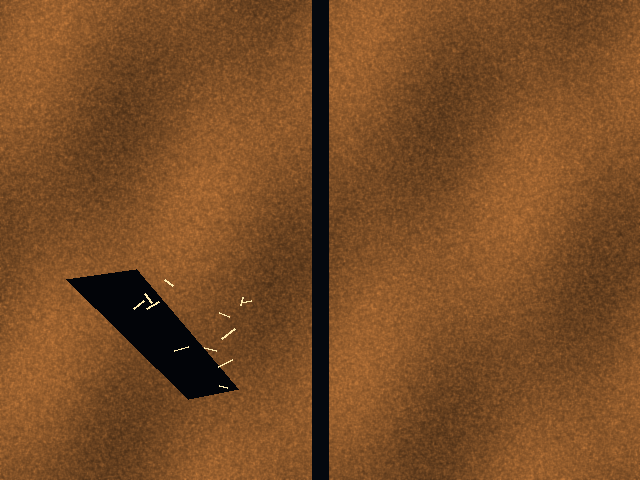Ghost Net: (126, 269, 248, 389)
